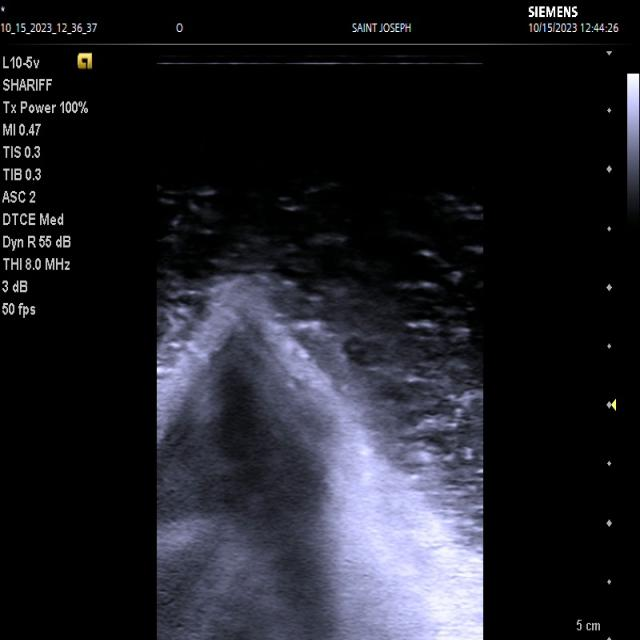tissue: (157, 283, 485, 640)
